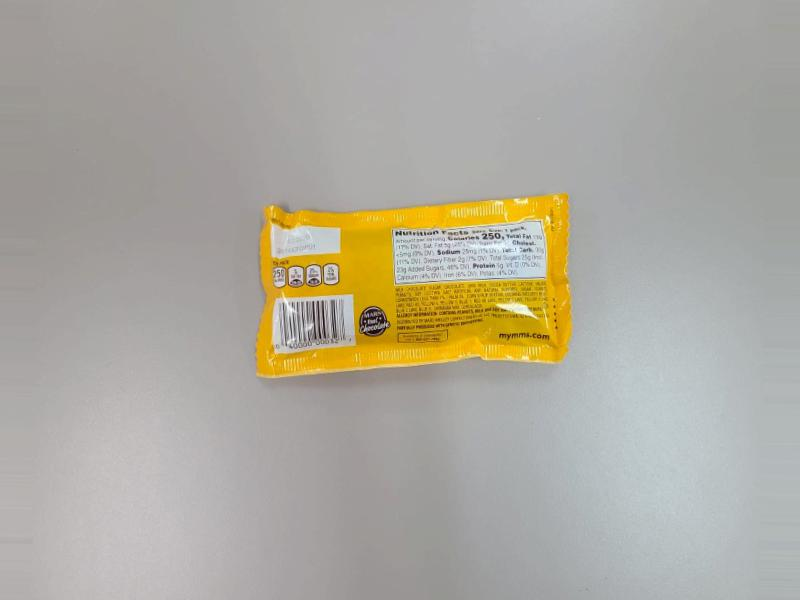m&m: (214, 178, 559, 381)
